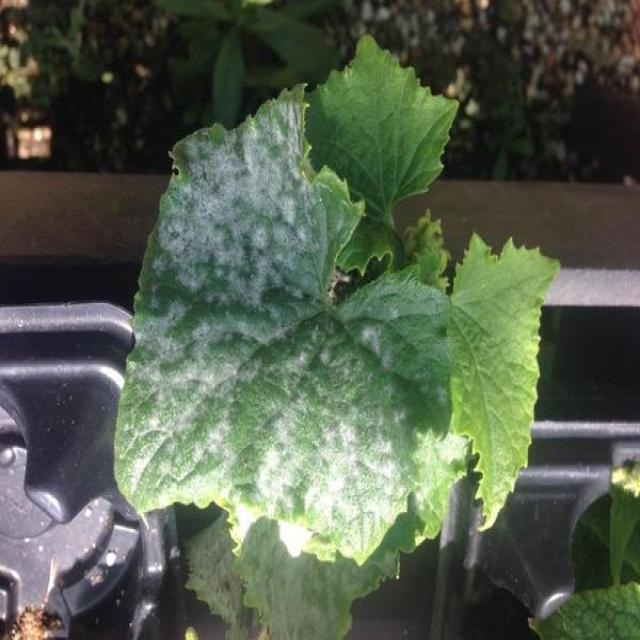Powdery Mildew: (111, 33, 561, 637)
